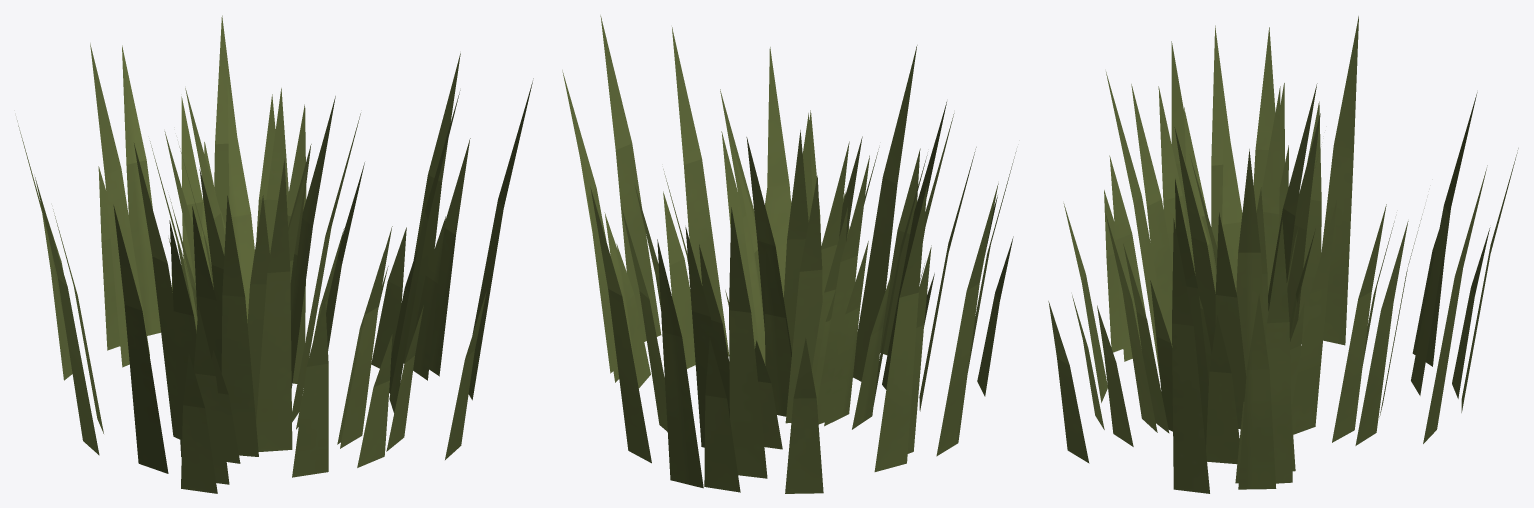
File: veg_grass_clump.glb
The picture shows the model from 3 angles, left to right: view 1: azimuth 30°, elevation 25°; view 2: azimuth 150°, elevation 25°; view 3: azimuth 270°, elevation 25°; orthographic projection. The views are drawn at different scales.
Parts seen in each view (by area): view 1: grass_blades__blades; view 2: grass_blades__blades; view 3: grass_blades__blades.
Part boxes in pixels (left/top/right/bottom): grass_blades__blades: left=17, top=15, right=533, bottom=493; grass_blades__blades: left=562, top=15, right=1016, bottom=493; grass_blades__blades: left=1048, top=16, right=1518, bottom=493.
Size of the model in its own units: 0.669 by 0.458 by 0.6212.
1 material, 1 textured.
